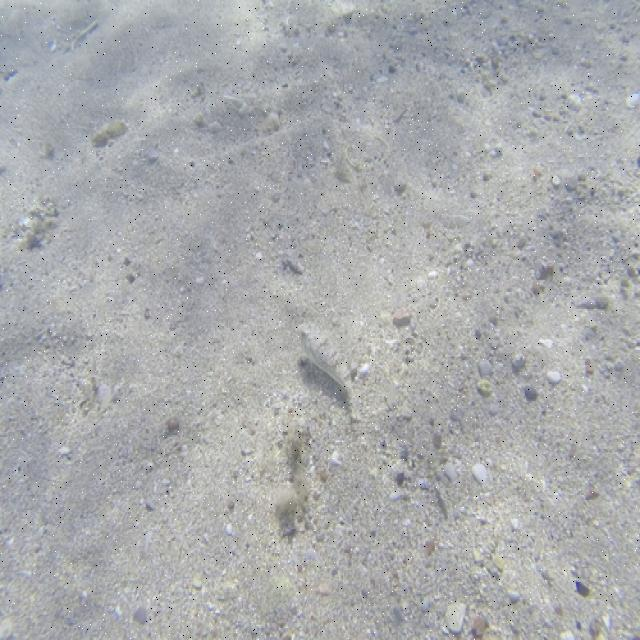Balik: (300, 324, 349, 394)
